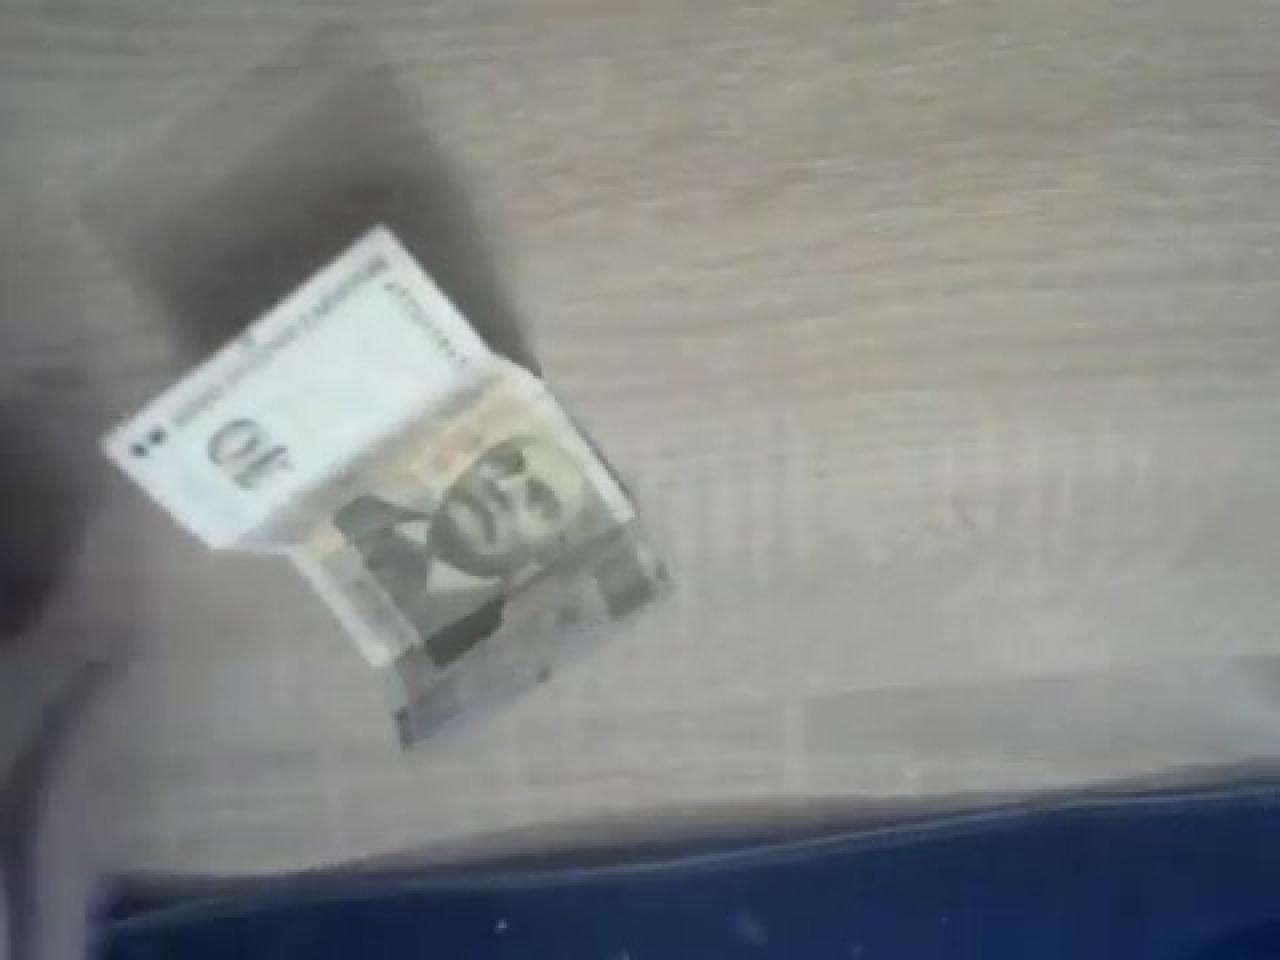10leva: (99, 219, 669, 746)
